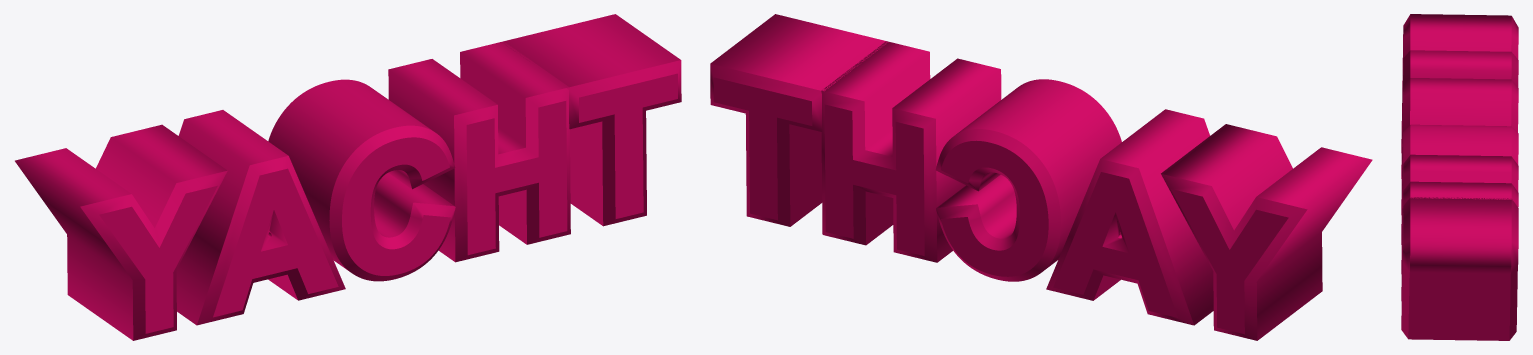
Rendered from yacht.fbx.
The picture shows the model from 3 angles, left to right: view 1: azimuth 30°, elevation 25°; view 2: azimuth 150°, elevation 25°; view 3: azimuth 270°, elevation 25°; orthographic projection. The views are drawn at different scales.
Visible parts, largest first — view 1: Text; view 2: Text; view 3: Text.
Boxes of the visible parts, x1,y1,x2,y2 form: Text: (15, 14, 681, 340); Text: (710, 14, 1372, 340); Text: (1401, 14, 1518, 340).
Bounding box in the file's own units: 2.51 × 0.6068 × 0.5489.
